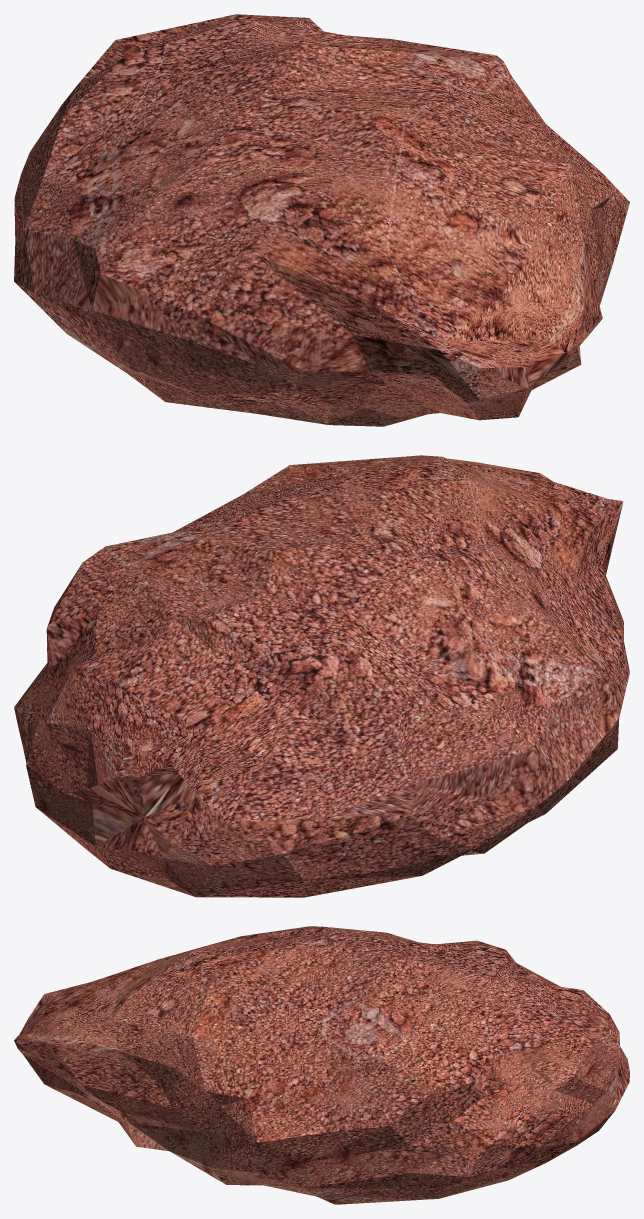
The model's file is Rock1.fbx.
3 renders of one model, top to bottom at view 1: azimuth 30°, elevation 25°; view 2: azimuth 150°, elevation 25°; view 3: azimuth 270°, elevation 25°, orthographic. The views are drawn at different scales.
Parts seen in each view (by area): view 1: Sphere; view 2: Sphere; view 3: Sphere.
Part boxes in pixels (bbox=[...]): Sphere: bbox=[14, 14, 629, 426]; Sphere: bbox=[14, 455, 629, 897]; Sphere: bbox=[14, 926, 629, 1204].
Size of the model in its own units: 177 by 101 by 254.
1 material, 1 textured.
